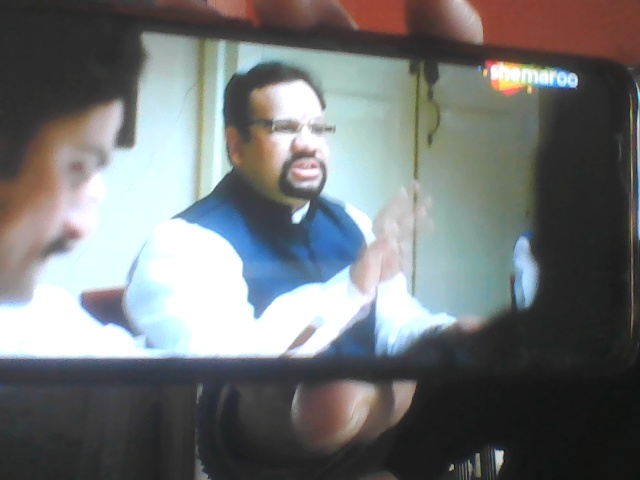fake: (225, 49, 343, 217)
